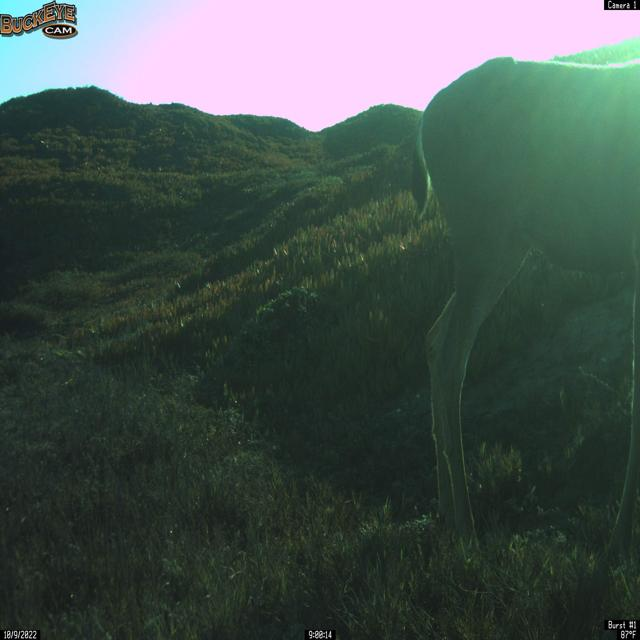deer: (409, 5, 640, 572)
